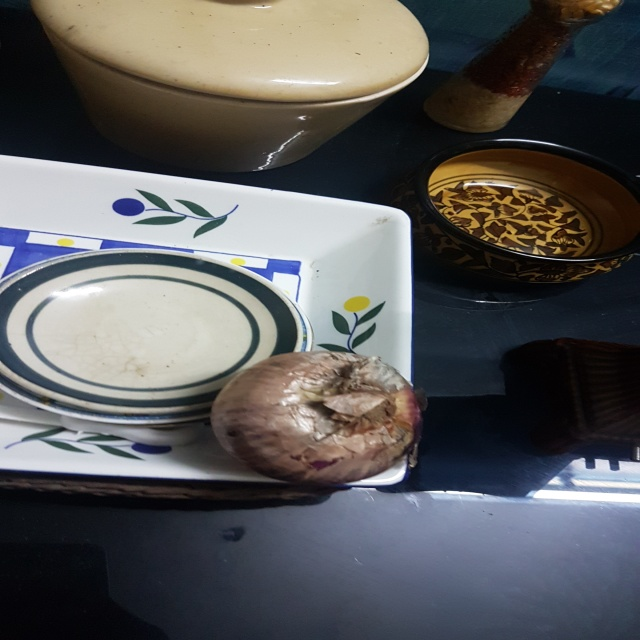onion: (206, 344, 433, 488)
